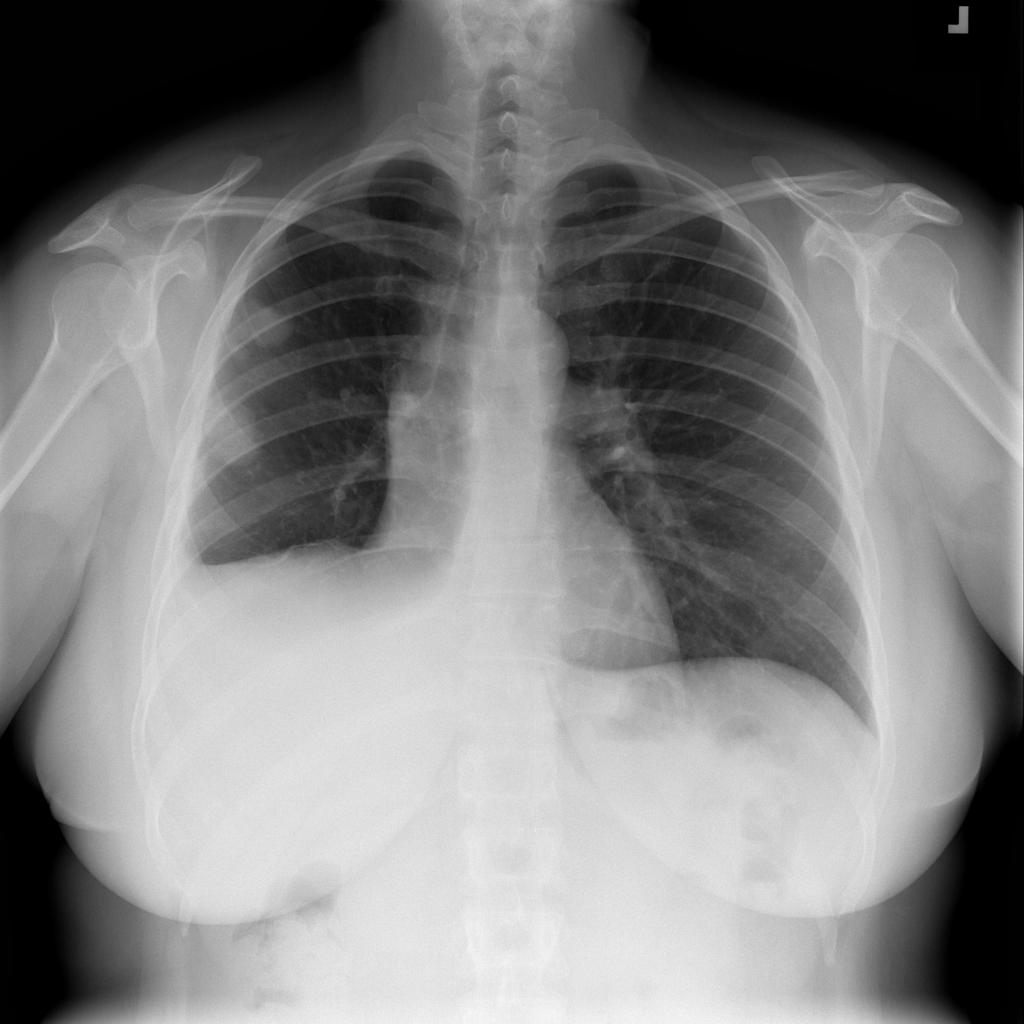nodule: (198, 391, 274, 475), (229, 286, 308, 358)
